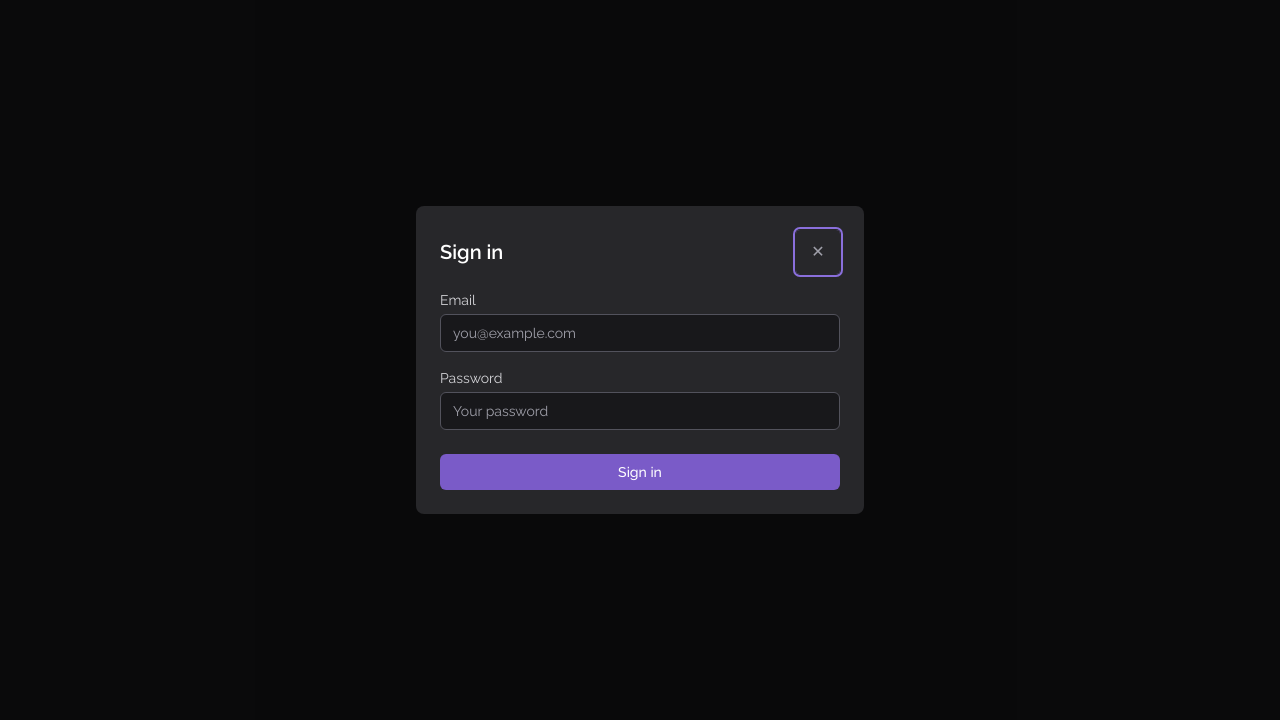
Test: SignInModal › shows a generic error for non-Error rejections
The image size is (1280, 720).
In the field labelled "Email": coordinates (640, 333) [440, 314, 840, 352], type "a@b.com"
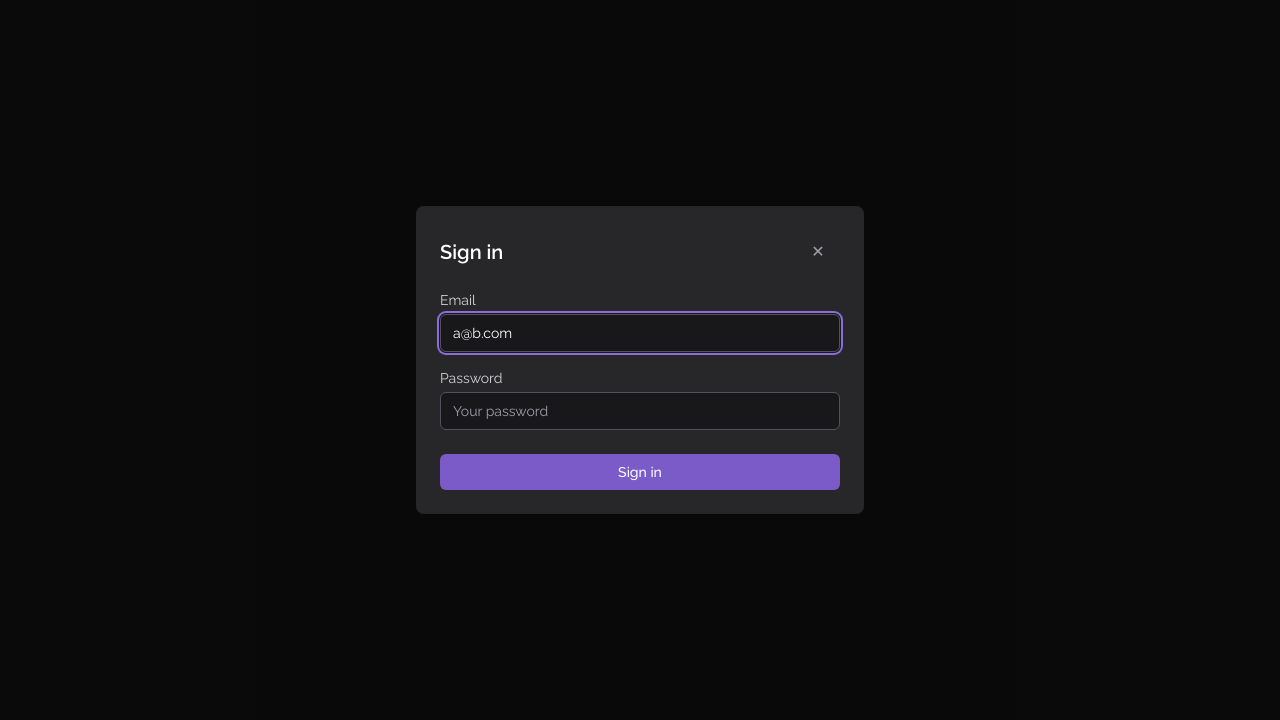
In the password field labelled "Password": coordinates (640, 411) [440, 392, 840, 430], type "password"
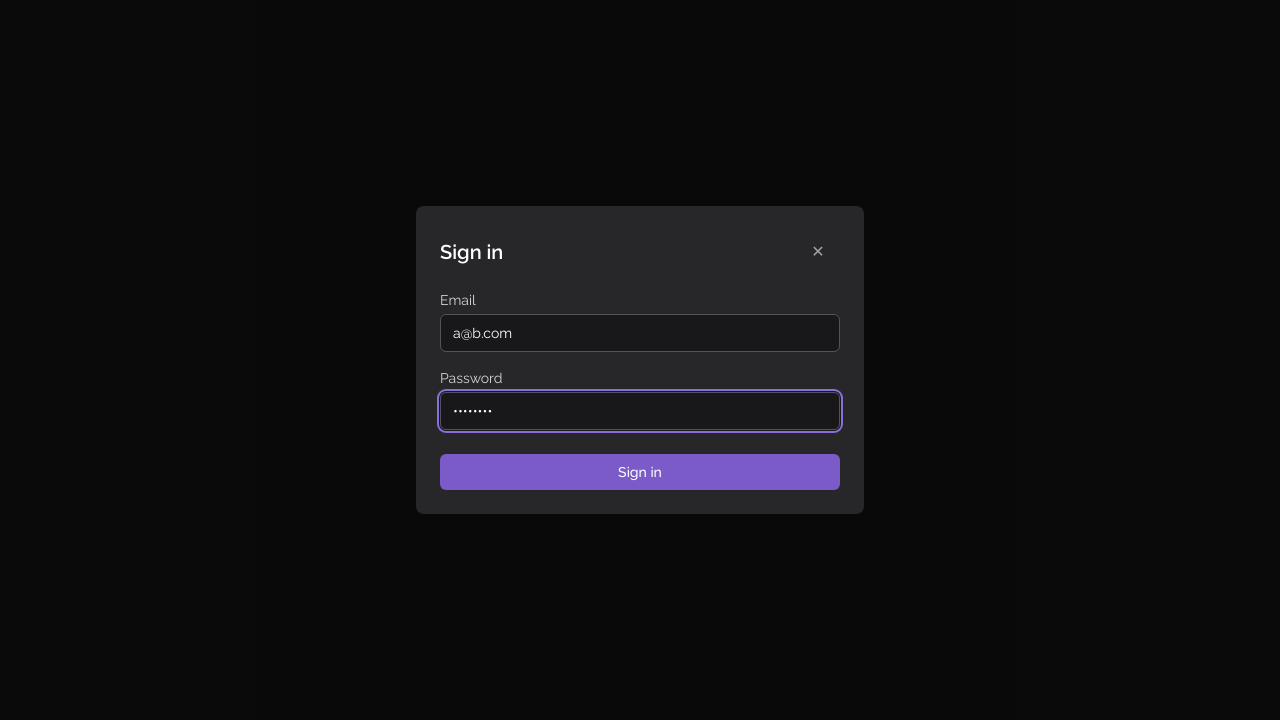
Click the button "Sign in": coordinates (640, 472) [440, 454, 840, 490]
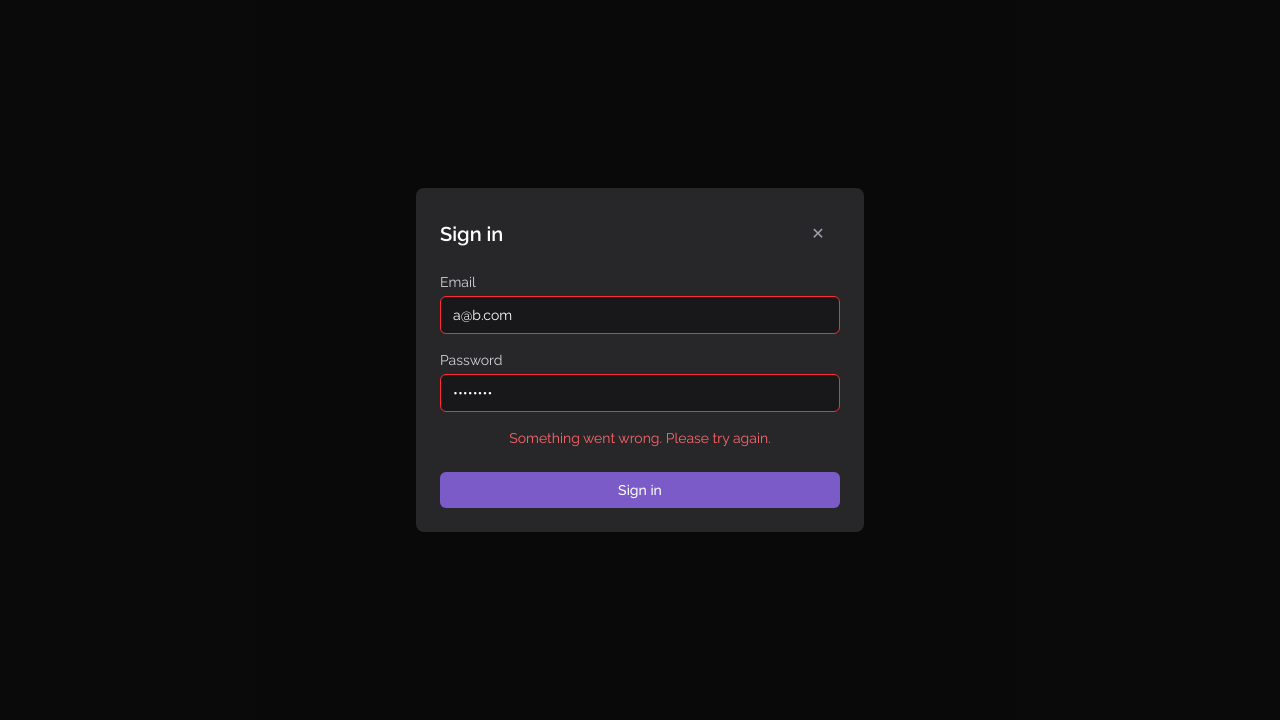
Check: the text "Something went wrong. Please try again." is shown, box [509, 430, 771, 446]
